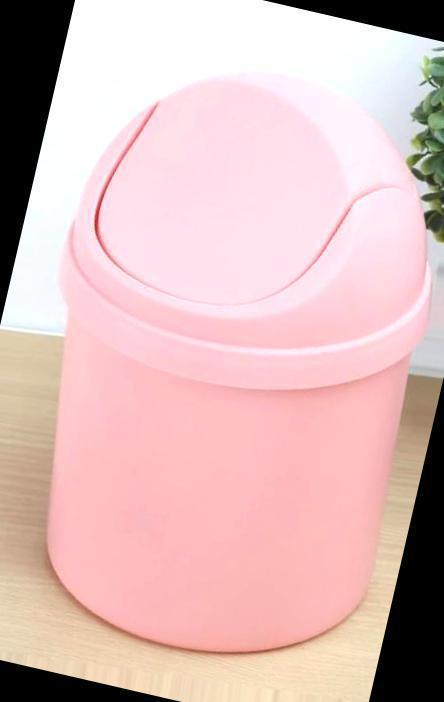Bote de Basura: (0, 41, 444, 692)
